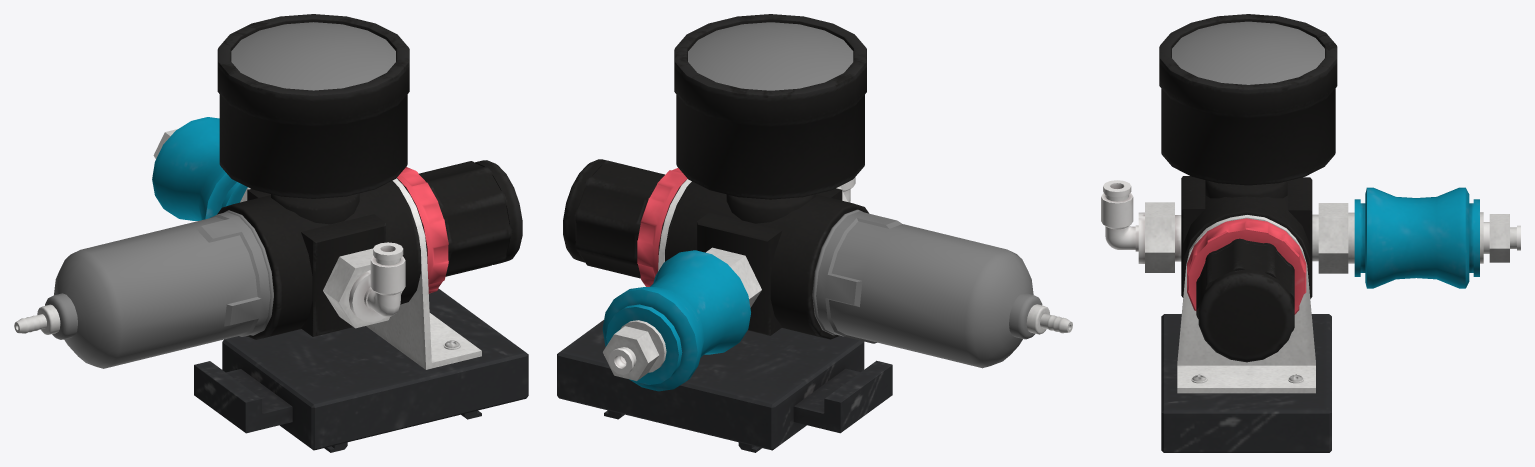
File: 气动二联件.fbx
3 views of the same model, side by side, from view 1: azimuth 30°, elevation 25°; view 2: azimuth 150°, elevation 25°; view 3: azimuth 270°, elevation 25° (orthographic). The views are drawn at different scales.
Parts seen in each view (by area): view 1: QDELJ01, QDELJ02; view 2: QDELJ01, QDELJ02; view 3: QDELJ01, QDELJ02.
Boxes of the visible parts, x1,y1,x2,y2 form: QDELJ01: (14,14,522,369); QDELJ02: (194,288,528,452); QDELJ01: (563,14,1072,391); QDELJ02: (557,320,892,452); QDELJ01: (1101,14,1520,393); QDELJ02: (1161,314,1331,452).
Size of the model in its own units: 16.44 by 12.18 by 13.36.
